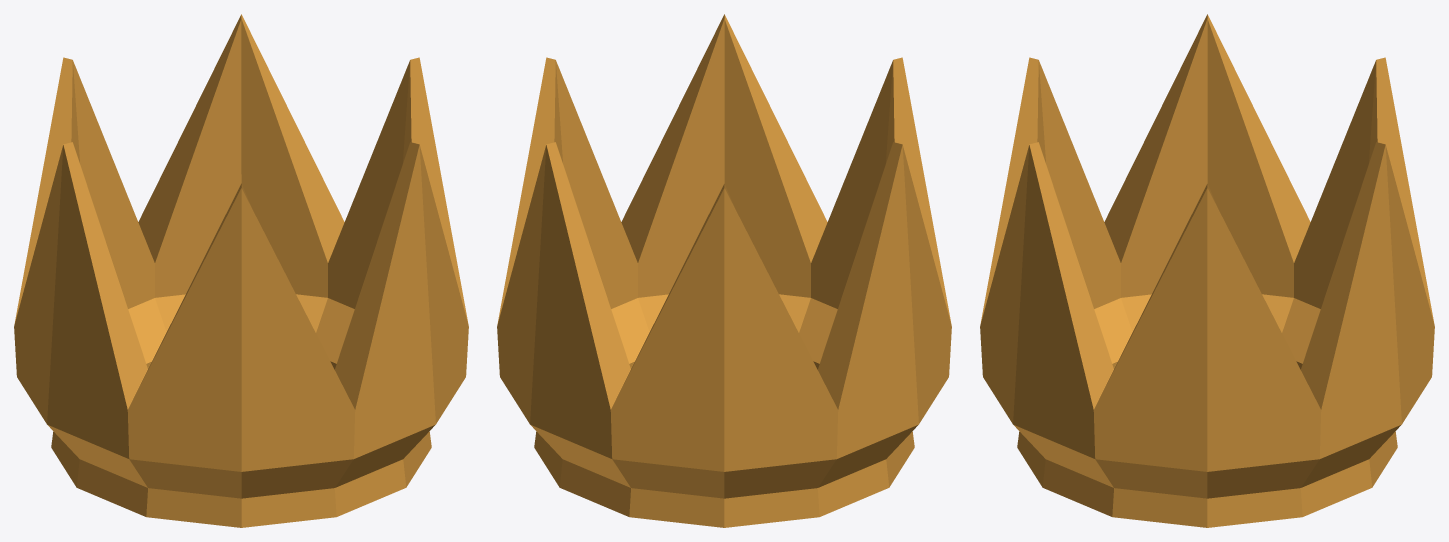
Rendered from crown.fbx.
3 views of the same model, side by side, from view 1: azimuth 30°, elevation 25°; view 2: azimuth 150°, elevation 25°; view 3: azimuth 270°, elevation 25° (orthographic).
Visible parts, largest first — view 1: Circle; view 2: Circle; view 3: Circle.
Boxes of the visible parts, x1=… form: Circle: x1=14, y1=14, x2=468, y2=527; Circle: x1=497, y1=14, x2=951, y2=527; Circle: x1=980, y1=14, x2=1434, y2=527.
Bounding box in the file's own units: 330 × 281 × 335.
